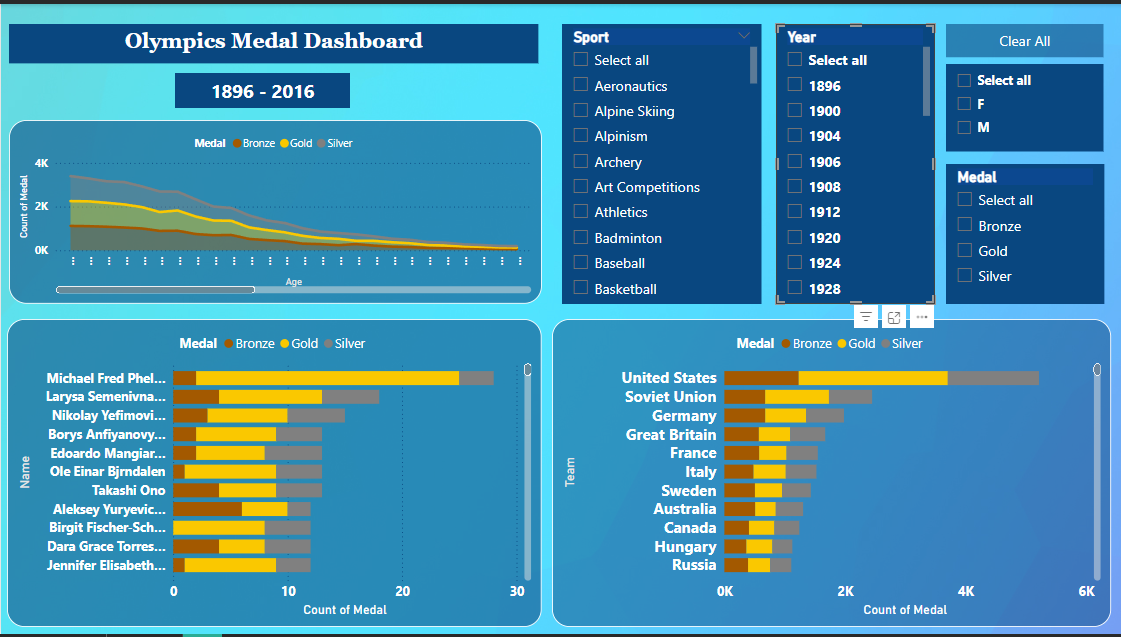

Layout of this report page (visuals, bound fields, positions):
{"tool":"powerbi","page":{"name":"Page 1","canvas":[1280,720],"ordinal":0},"visuals":[{"type":"textbox","box":[9,23.1,605.3,45],"z":0},{"type":"barChart","fields":{"Category":["Events.Team"],"Series":["Events.Medal"],"Y":["Events.Medal"]},"box":[630,359.6,639.3,351.6],"z":1000},{"type":"barChart","fields":{"Category":["Events.Name"],"Y":["Events.Medal"],"Series":["Events.Medal"]},"box":[6.7,359.6,611.4,351.6],"z":2000},{"type":"textbox","box":[198.8,78.8,200,40],"z":3000},{"type":"slicer","fields":{"Values":["Events.Sport"]},"box":[640.7,22.6,227.8,319.7],"z":4000},{"type":"slicer","fields":{"Values":["Events.Year"]},"box":[885.7,22.6,181.1,319.7],"z":5000},{"type":"slicer","fields":{"Values":["Events.Medal"]},"box":[1080,182.5,181.2,160],"z":6000},{"type":"slicer","fields":{"Values":["Events.Sex"]},"box":[1080,68.8,180,100],"z":8000},{"type":"actionButton","box":[1080,22.5,180,37.5],"z":8001},{"type":"stackedAreaChart","fields":{"Category":["Events.Age"],"Y":["Events.Medal"],"Series":["Events.Medal"]},"box":[8.8,132.5,608.8,210],"z":8002}]}

Visuals, with their boxes in screenshot pixels (x1, y1, x2, y2), scaled from the page's 1280x720 canvas onto the 1121x637 screenshot:
textbox: [8, 20, 538, 60]
barChart - Events.Team x Events.Medal: [552, 318, 1112, 629]
barChart - Events.Name x Events.Medal: [6, 318, 541, 629]
textbox: [174, 70, 349, 105]
slicer - Events.Sport: [561, 20, 761, 303]
slicer - Events.Year: [776, 20, 934, 303]
slicer - Events.Medal: [946, 161, 1105, 303]
slicer - Events.Sex: [946, 61, 1103, 149]
actionButton: [946, 20, 1103, 53]
stackedAreaChart - Events.Age x Events.Medal: [8, 117, 541, 303]
